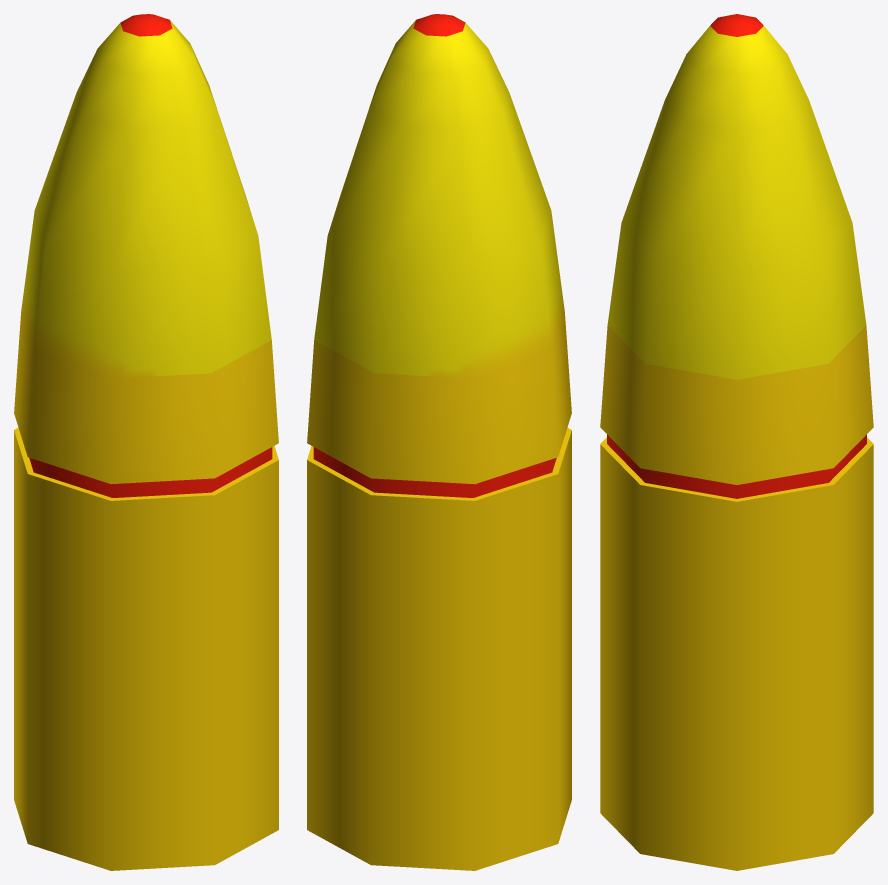
File: bullet_2.fbx
3 renders of one model, left to right at view 1: azimuth 30°, elevation 25°; view 2: azimuth 150°, elevation 25°; view 3: azimuth 270°, elevation 25°, orthographic.
Visible parts, largest first — view 1: Cylinder.001; view 2: Cylinder.001; view 3: Cylinder.001.
Part boxes in pixels (left/top/right/bottom): Cylinder.001: left=14, top=14, right=278, bottom=870; Cylinder.001: left=307, top=14, right=571, bottom=870; Cylinder.001: left=600, top=14, right=873, bottom=870.
Size of the model in its own units: 200 by 641 by 200.
